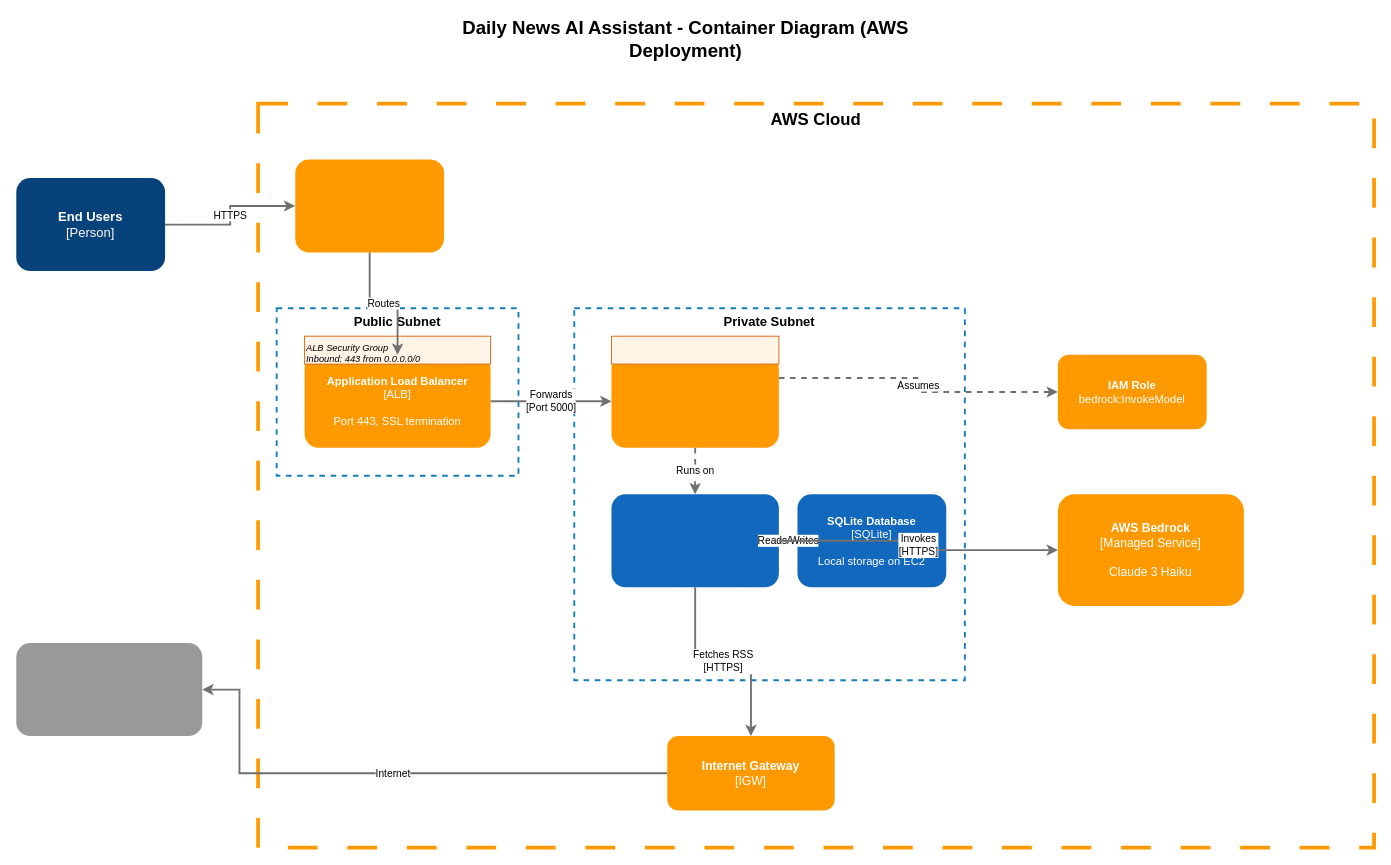
Image size: 1391x865. Some labels were removed from this diagram. The shapes that lost their labels are listed below. From the top down, each one's centre as x and y in pixels, then its label:
At point (369, 205): "Route 53 [DNS] news.example.com".
At point (695, 349): "EC2 Security Group Inbound: 5000 from ALB SG".
At point (694, 400): "EC2 Instance [Container: t3.medium] Hosts Flask application".
At point (694, 540): "Flask Web App [Python/Flask] Routes, services, models".
At point (109, 689): "RSS Feed Sources [External System]".
